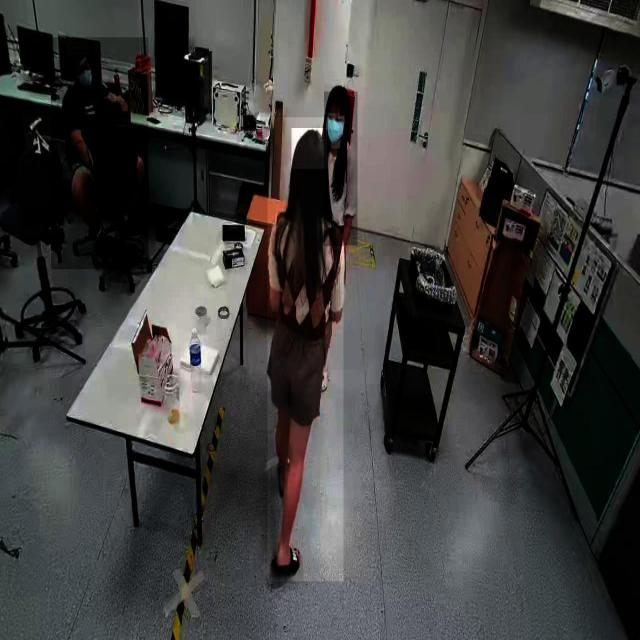face_mask: (328, 113, 348, 148), (78, 66, 92, 93)
head_nohelmet: (292, 128, 328, 170), (324, 85, 348, 106), (67, 41, 89, 56)
person: (268, 118, 344, 582), (51, 38, 149, 270), (324, 92, 358, 246)
